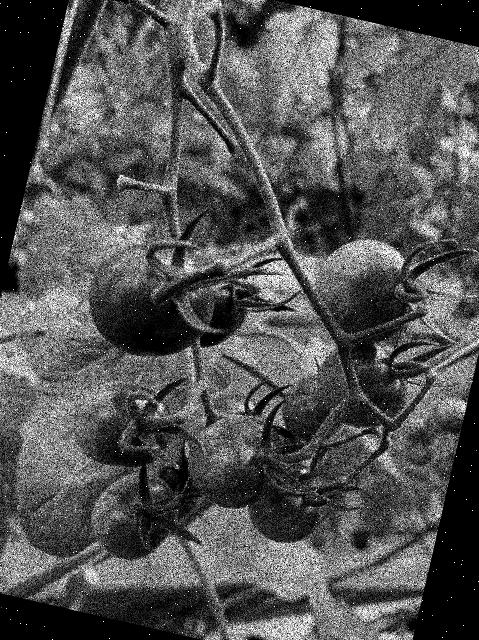l_fully_ripened: (172, 249, 259, 357)
l_green: (304, 228, 424, 354), (63, 372, 183, 479), (177, 405, 288, 517), (307, 331, 419, 437), (83, 462, 184, 568), (241, 453, 333, 550), (182, 383, 271, 462), (276, 368, 353, 450), (148, 450, 211, 526)
l_half_ripened: (75, 230, 225, 371)
